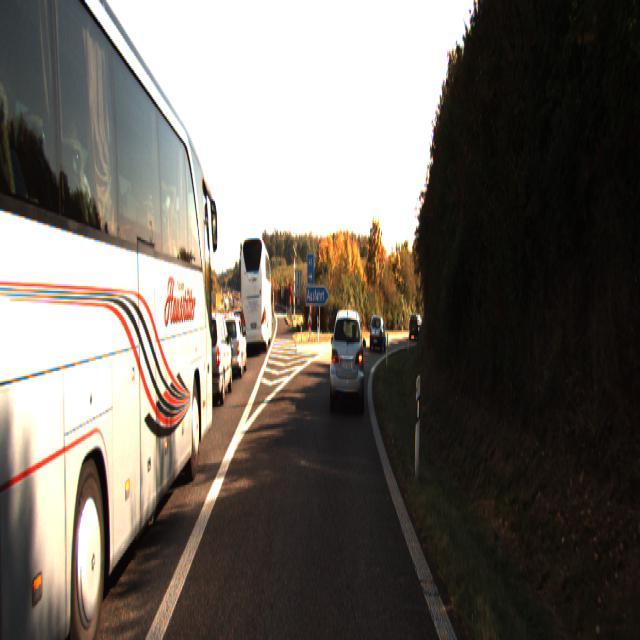Car: (0, 0, 216, 639), (190, 310, 233, 407), (240, 231, 272, 355), (329, 306, 365, 412), (218, 313, 248, 378), (369, 315, 386, 352), (409, 314, 426, 341)
